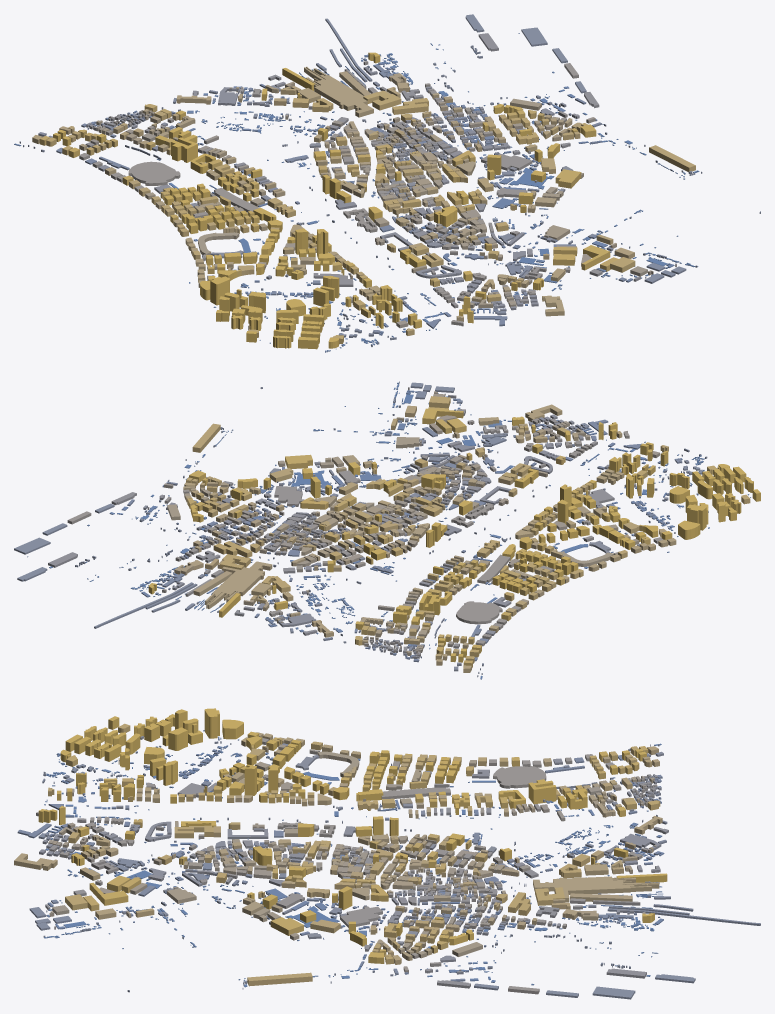
Rendered from buildings.glb.
The picture shows the model from 3 angles, top to bottom: view 1: azimuth 30°, elevation 25°; view 2: azimuth 150°, elevation 25°; view 3: azimuth 270°, elevation 25°; orthographic projection. The views are drawn at different scales.
Parts seen in each view (by area): view 1: buildings; view 2: buildings; view 3: buildings.
Boxes of the visible parts, x1,y1,x2,y2 form: buildings: [14, 14, 760, 352]; buildings: [14, 381, 760, 679]; buildings: [14, 708, 760, 999].
Size of the model in its own units: 2525 by 147 by 2905.
